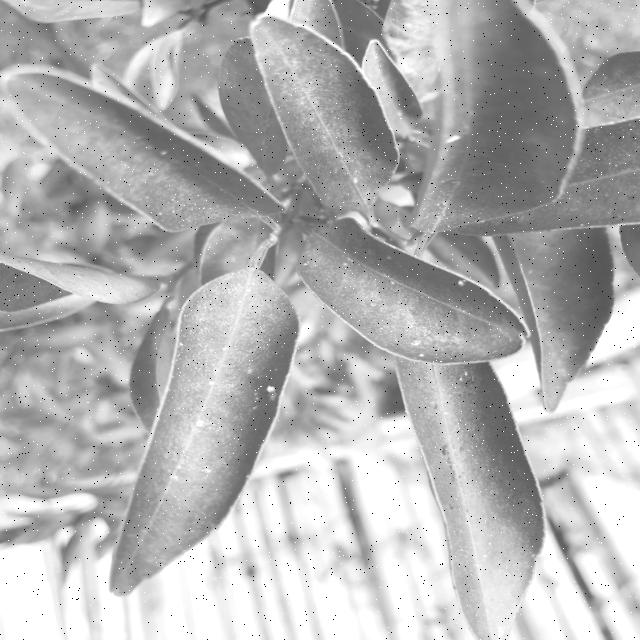canker: (144, 280, 290, 554), (304, 232, 488, 358), (386, 0, 441, 81)
